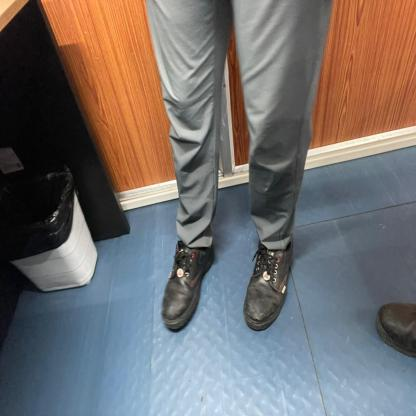bota: (161, 239, 216, 332), (242, 236, 294, 332), (372, 293, 416, 359)
